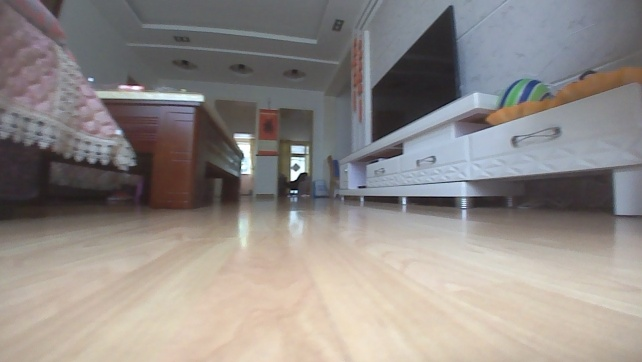TV_stand: (333, 66, 641, 217)
sofa1: (0, 0, 132, 220)
tea_table: (94, 85, 245, 214)
